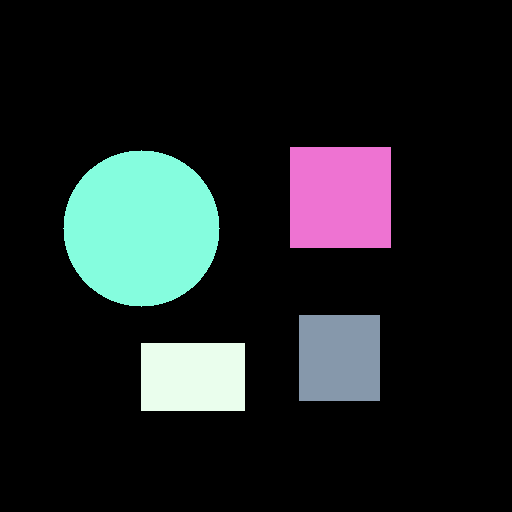circle: (63, 150, 219, 306)
rectangle: (141, 343, 244, 410)
square: (290, 147, 390, 247), (299, 315, 379, 400)
